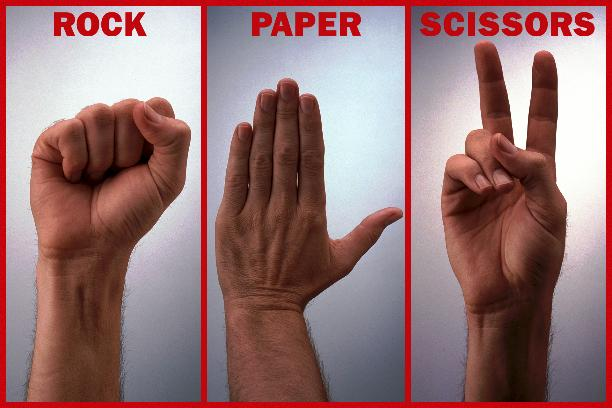Paper: (212, 77, 404, 306)
Rock: (24, 92, 195, 255)
Scissors: (439, 35, 572, 314)
